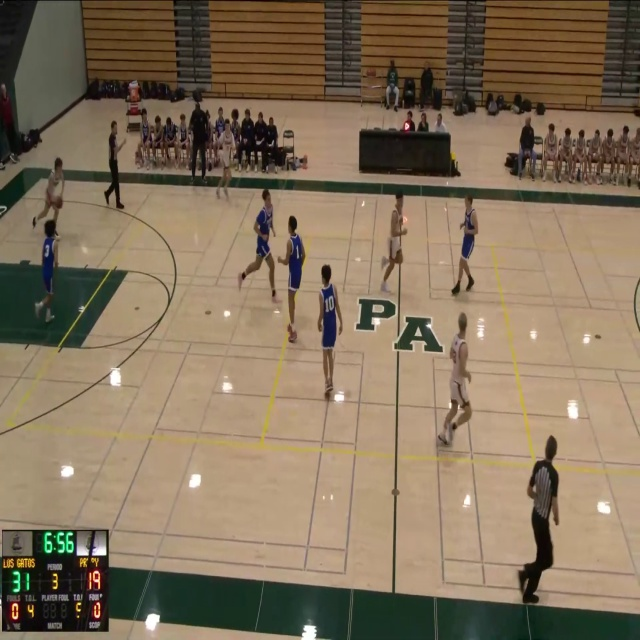Basketball: (50, 195, 63, 209)
